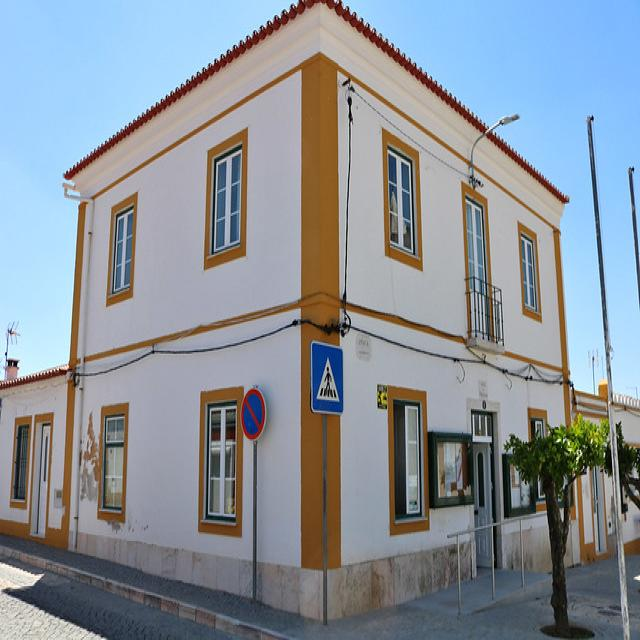building: (59, 4, 576, 630)
